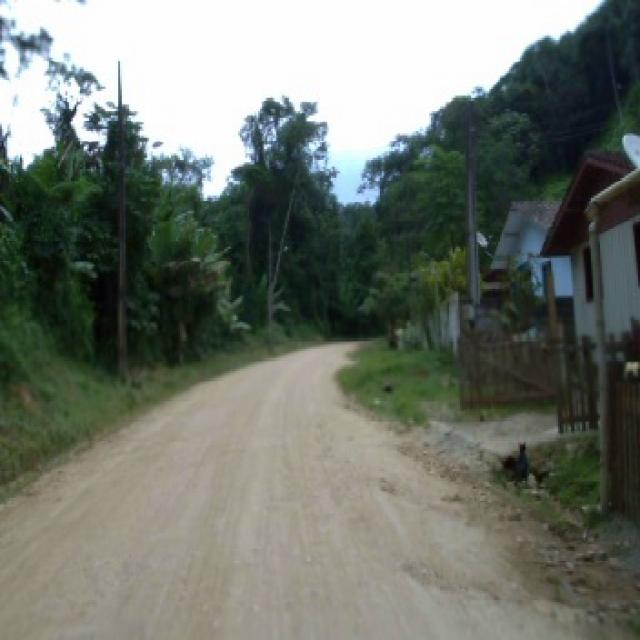Poth-hole: (392, 554, 500, 602), (376, 474, 398, 496)
